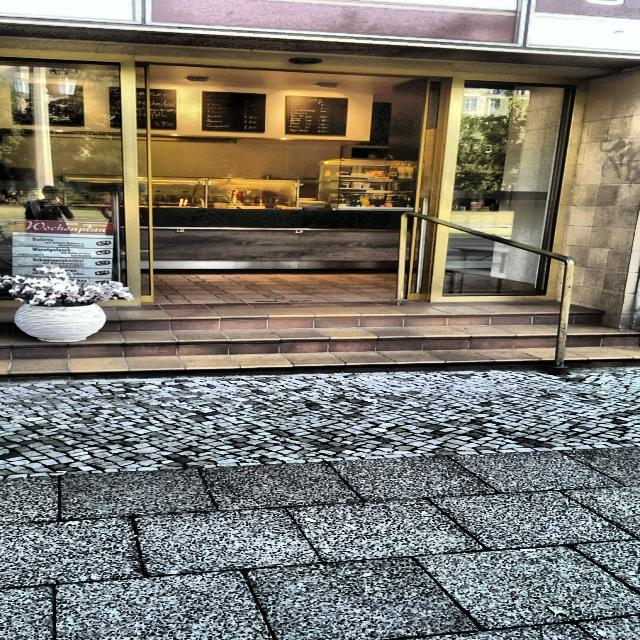escada: (0, 310, 640, 381)
